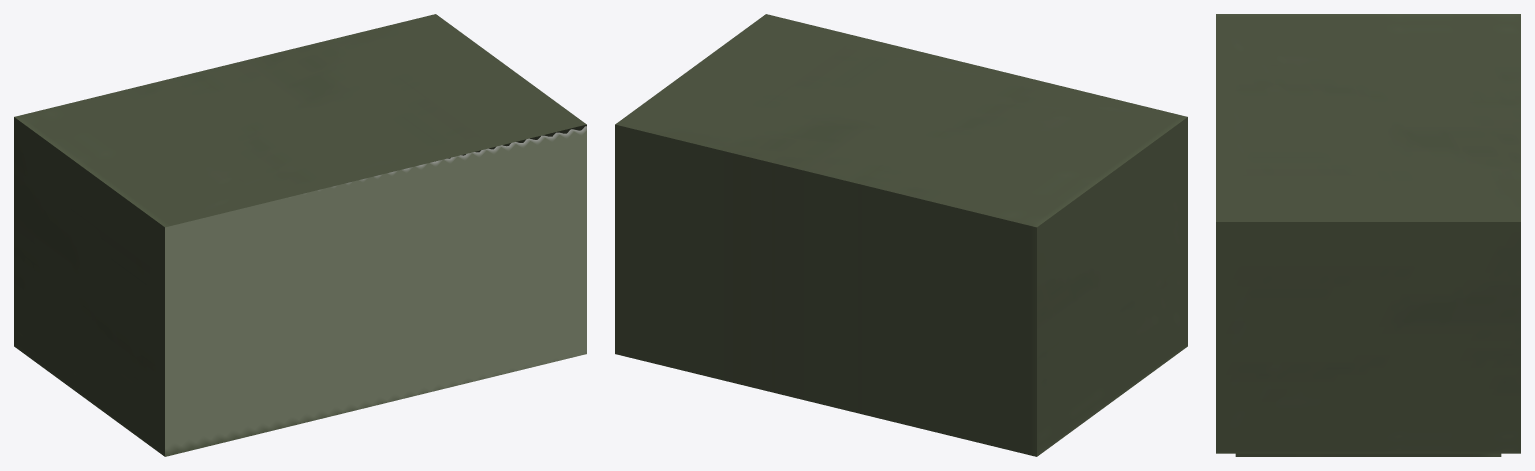
Rendered from pz_counter_green_wall.obj.
The picture shows the model from 3 angles, left to right: view 1: azimuth 30°, elevation 25°; view 2: azimuth 150°, elevation 25°; view 3: azimuth 270°, elevation 25°; orthographic projection.
Bounding box in the file's own units: 1 × 0.536 × 0.62.
1 material, 1 textured.
